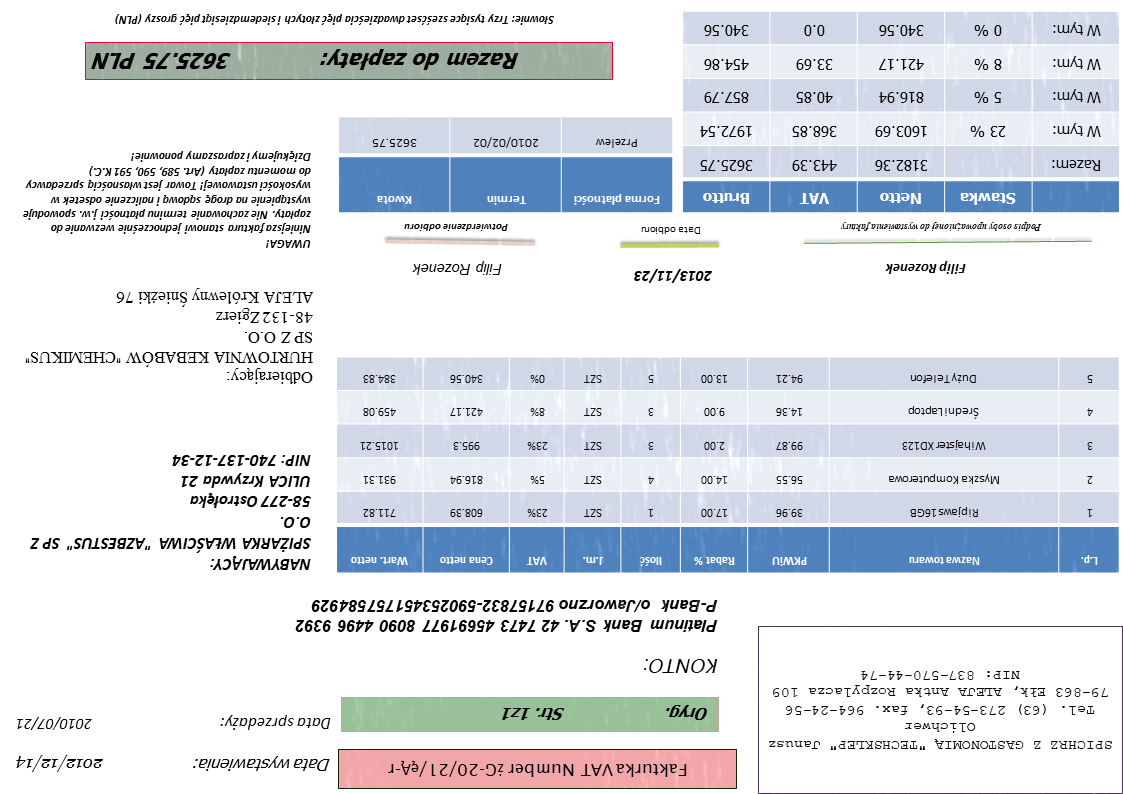Table: (335, 356, 1121, 575), (682, 11, 1122, 214), (336, 114, 674, 216)
TextBox: (25, 450, 314, 574), (768, 665, 1114, 755), (21, 149, 313, 252), (24, 288, 316, 386), (290, 593, 720, 637), (91, 47, 522, 76), (112, 10, 558, 28), (384, 757, 691, 782), (499, 702, 710, 725), (838, 220, 1044, 235), (189, 755, 334, 775), (218, 712, 335, 732), (409, 259, 506, 280), (14, 753, 105, 774), (14, 714, 96, 735), (885, 259, 968, 279), (633, 266, 716, 286), (642, 655, 720, 676), (401, 220, 511, 234), (640, 222, 706, 239)
